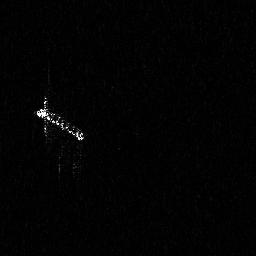ship: (32, 94, 88, 178)
